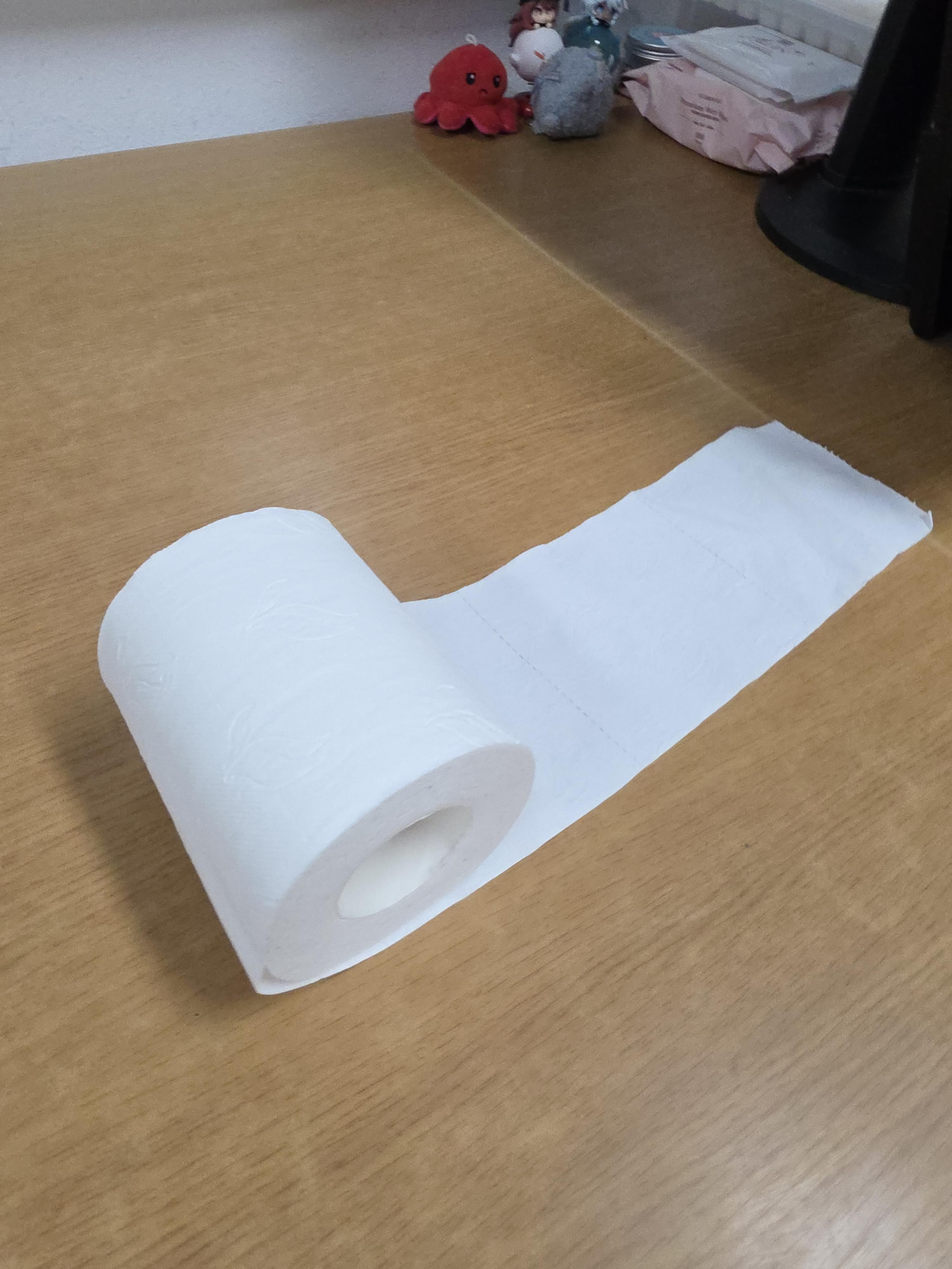tissue: (96, 419, 936, 996)
